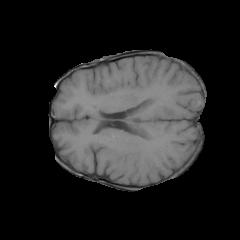glioma: (141, 84, 172, 111)
